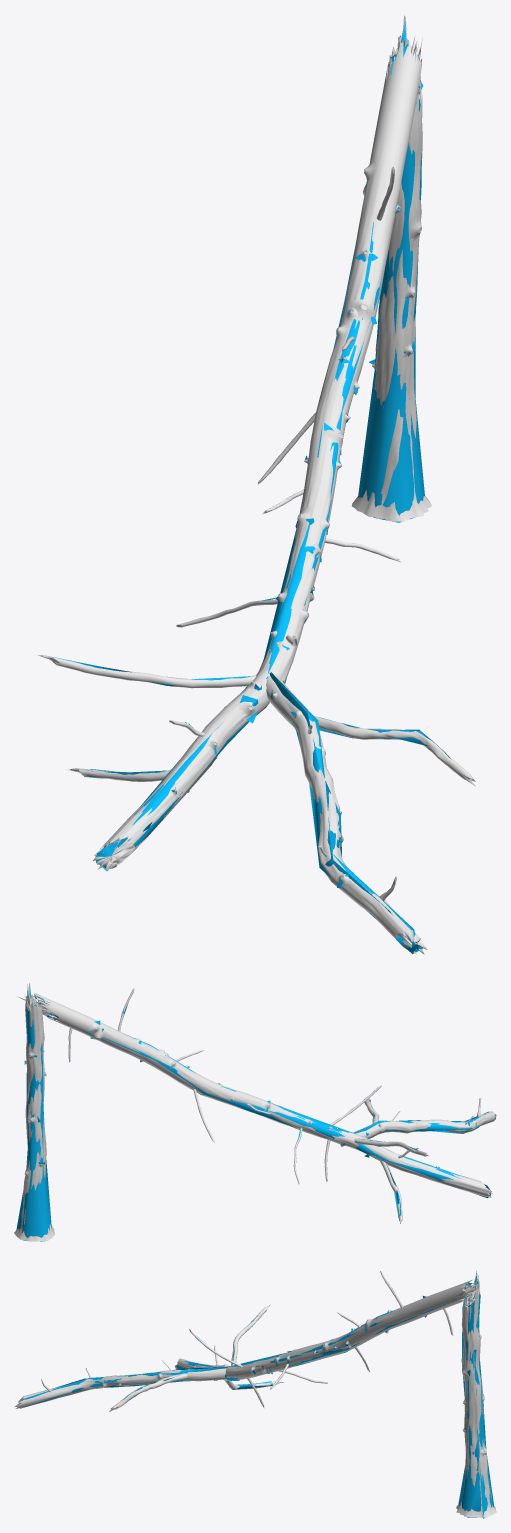
The model's file is Deadtree04_180.fbx.
3 views of the same model, one above another, from view 1: azimuth 30°, elevation 25°; view 2: azimuth 150°, elevation 25°; view 3: azimuth 270°, elevation 25° (orthographic). The views are drawn at different scales.
Visible parts, largest first — view 1: DeadTree04_LOD0, UTM_DeadTree04; view 2: DeadTree04_LOD0, UTM_DeadTree04; view 3: DeadTree04_LOD0, UTM_DeadTree04.
Part boxes in pixels (x1,y1,x2,y2): DeadTree04_LOD0: [35, 15, 475, 954]; UTM_DeadTree04: [50, 18, 450, 953]; DeadTree04_LOD0: [14, 983, 496, 1241]; UTM_DeadTree04: [16, 986, 495, 1241]; DeadTree04_LOD0: [14, 1271, 496, 1517]; UTM_DeadTree04: [19, 1271, 494, 1518].
Size of what is drawn, in the model's own units: 419 by 314 by 556.
